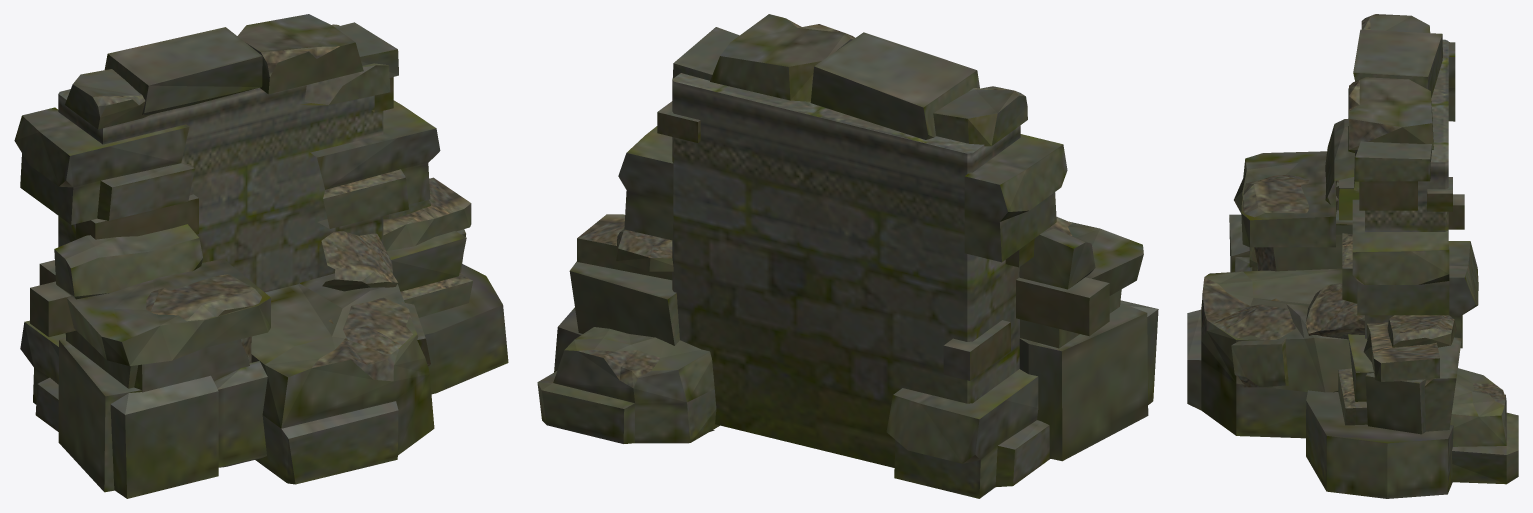
File: S2_Build_XSC066.FBX
3 renders of one model, left to right at view 1: azimuth 30°, elevation 25°; view 2: azimuth 150°, elevation 25°; view 3: azimuth 270°, elevation 25°, orthographic. The views are drawn at different scales.
Visible parts, largest first — view 1: S2_Build_XSC066; view 2: S2_Build_XSC066; view 3: S2_Build_XSC066.
Boxes of the visible parts, x1,y1,x2,y2 form: S2_Build_XSC066: (14, 14, 508, 498); S2_Build_XSC066: (537, 14, 1158, 498); S2_Build_XSC066: (1187, 14, 1518, 498).
Size of the model in its own units: 36.5 by 26.43 by 24.79.
